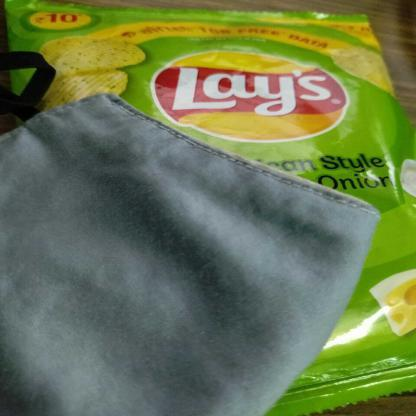cream_and_onion: (16, 2, 410, 333)
